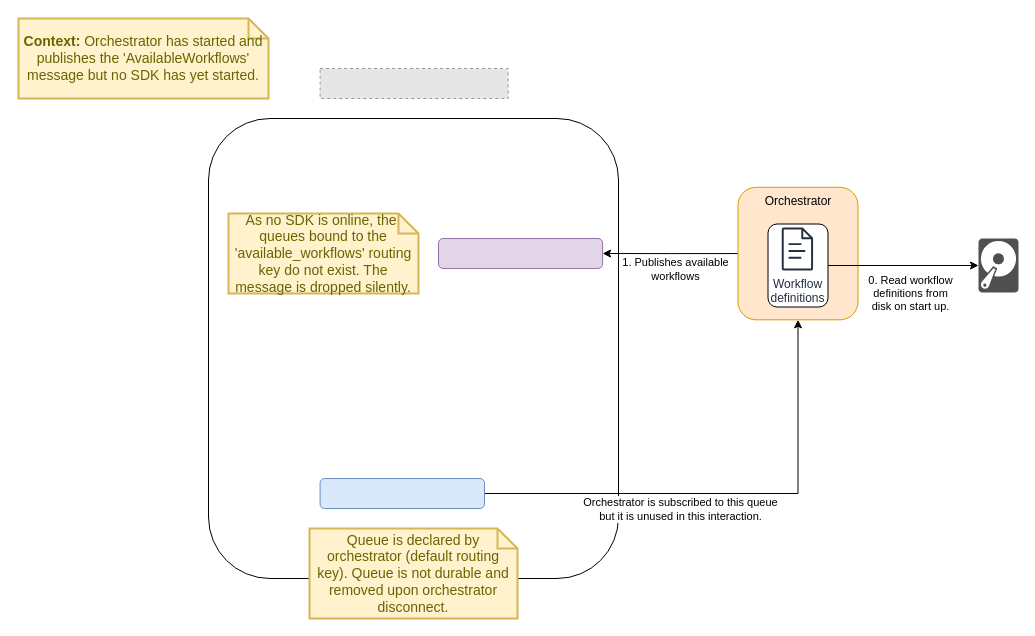
Image size: 1035x636. Some labels were removed from this diagram. Grey dashed boxes stand in for pictures. Here are the shapes that lost their labels. From the top down, the centre of each, then its label:
the point at 520,253: Routing key: available_workflows
the point at 401,493: request_available_workflows <exclusive>
